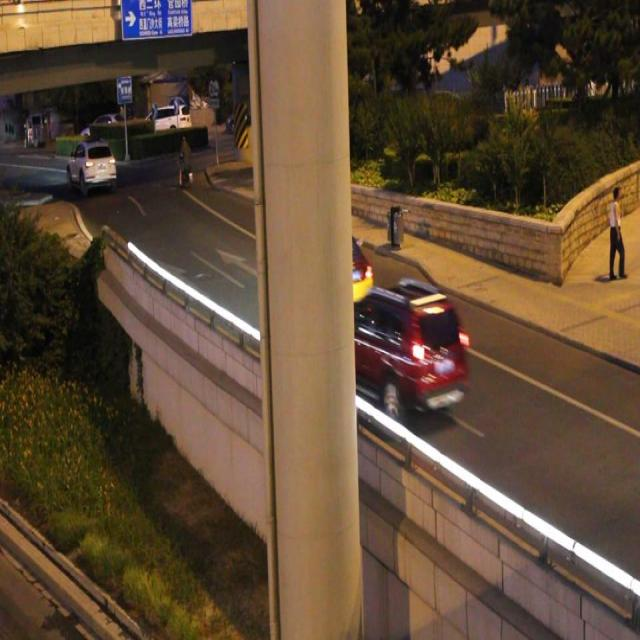car: (329, 279, 468, 418), (280, 226, 372, 320)
